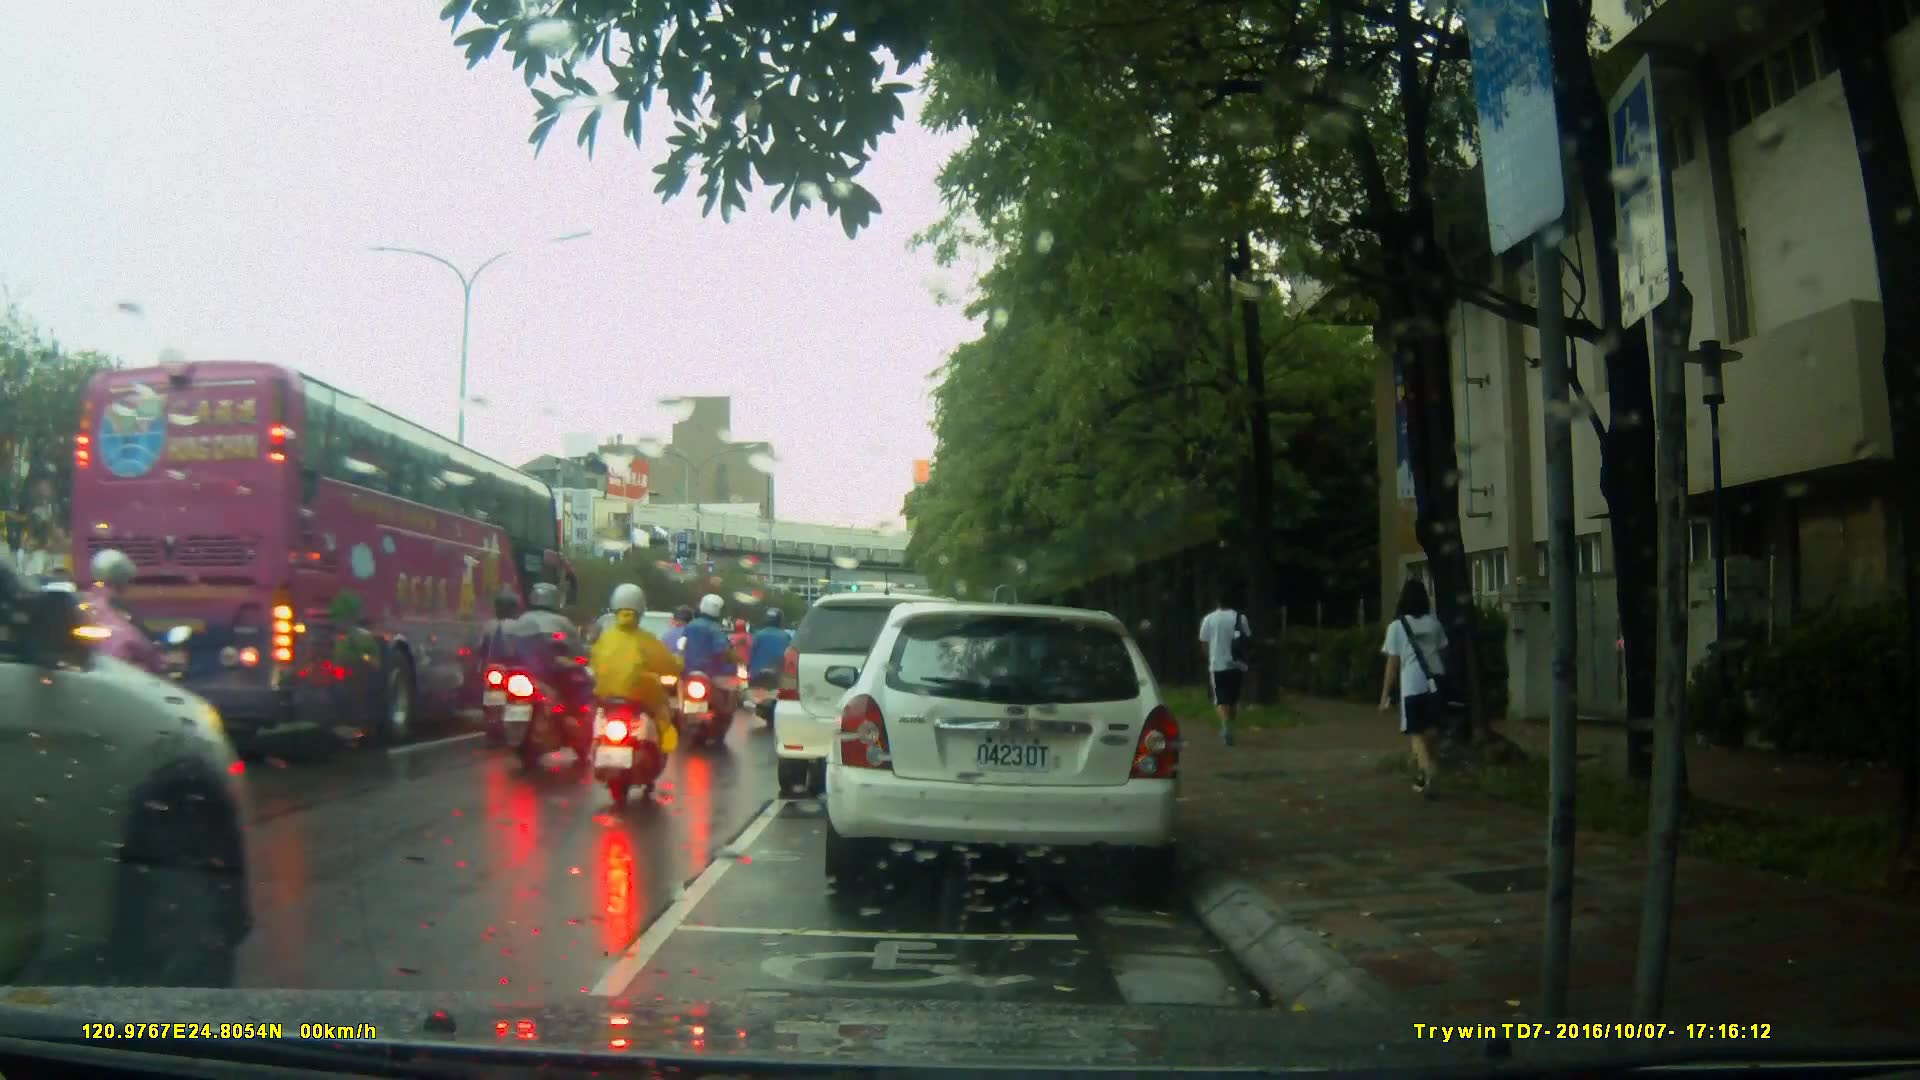pedestrian: (1369, 574, 1455, 806), (1184, 580, 1248, 752)
rider: (47, 544, 196, 851), (595, 585, 683, 811), (506, 578, 597, 771), (676, 590, 738, 764), (477, 592, 542, 750), (745, 606, 809, 736), (662, 598, 710, 724), (722, 617, 762, 697)
vehicle: (45, 355, 561, 744), (1, 497, 258, 987), (835, 594, 1194, 898), (776, 590, 1026, 784), (575, 609, 723, 734)
